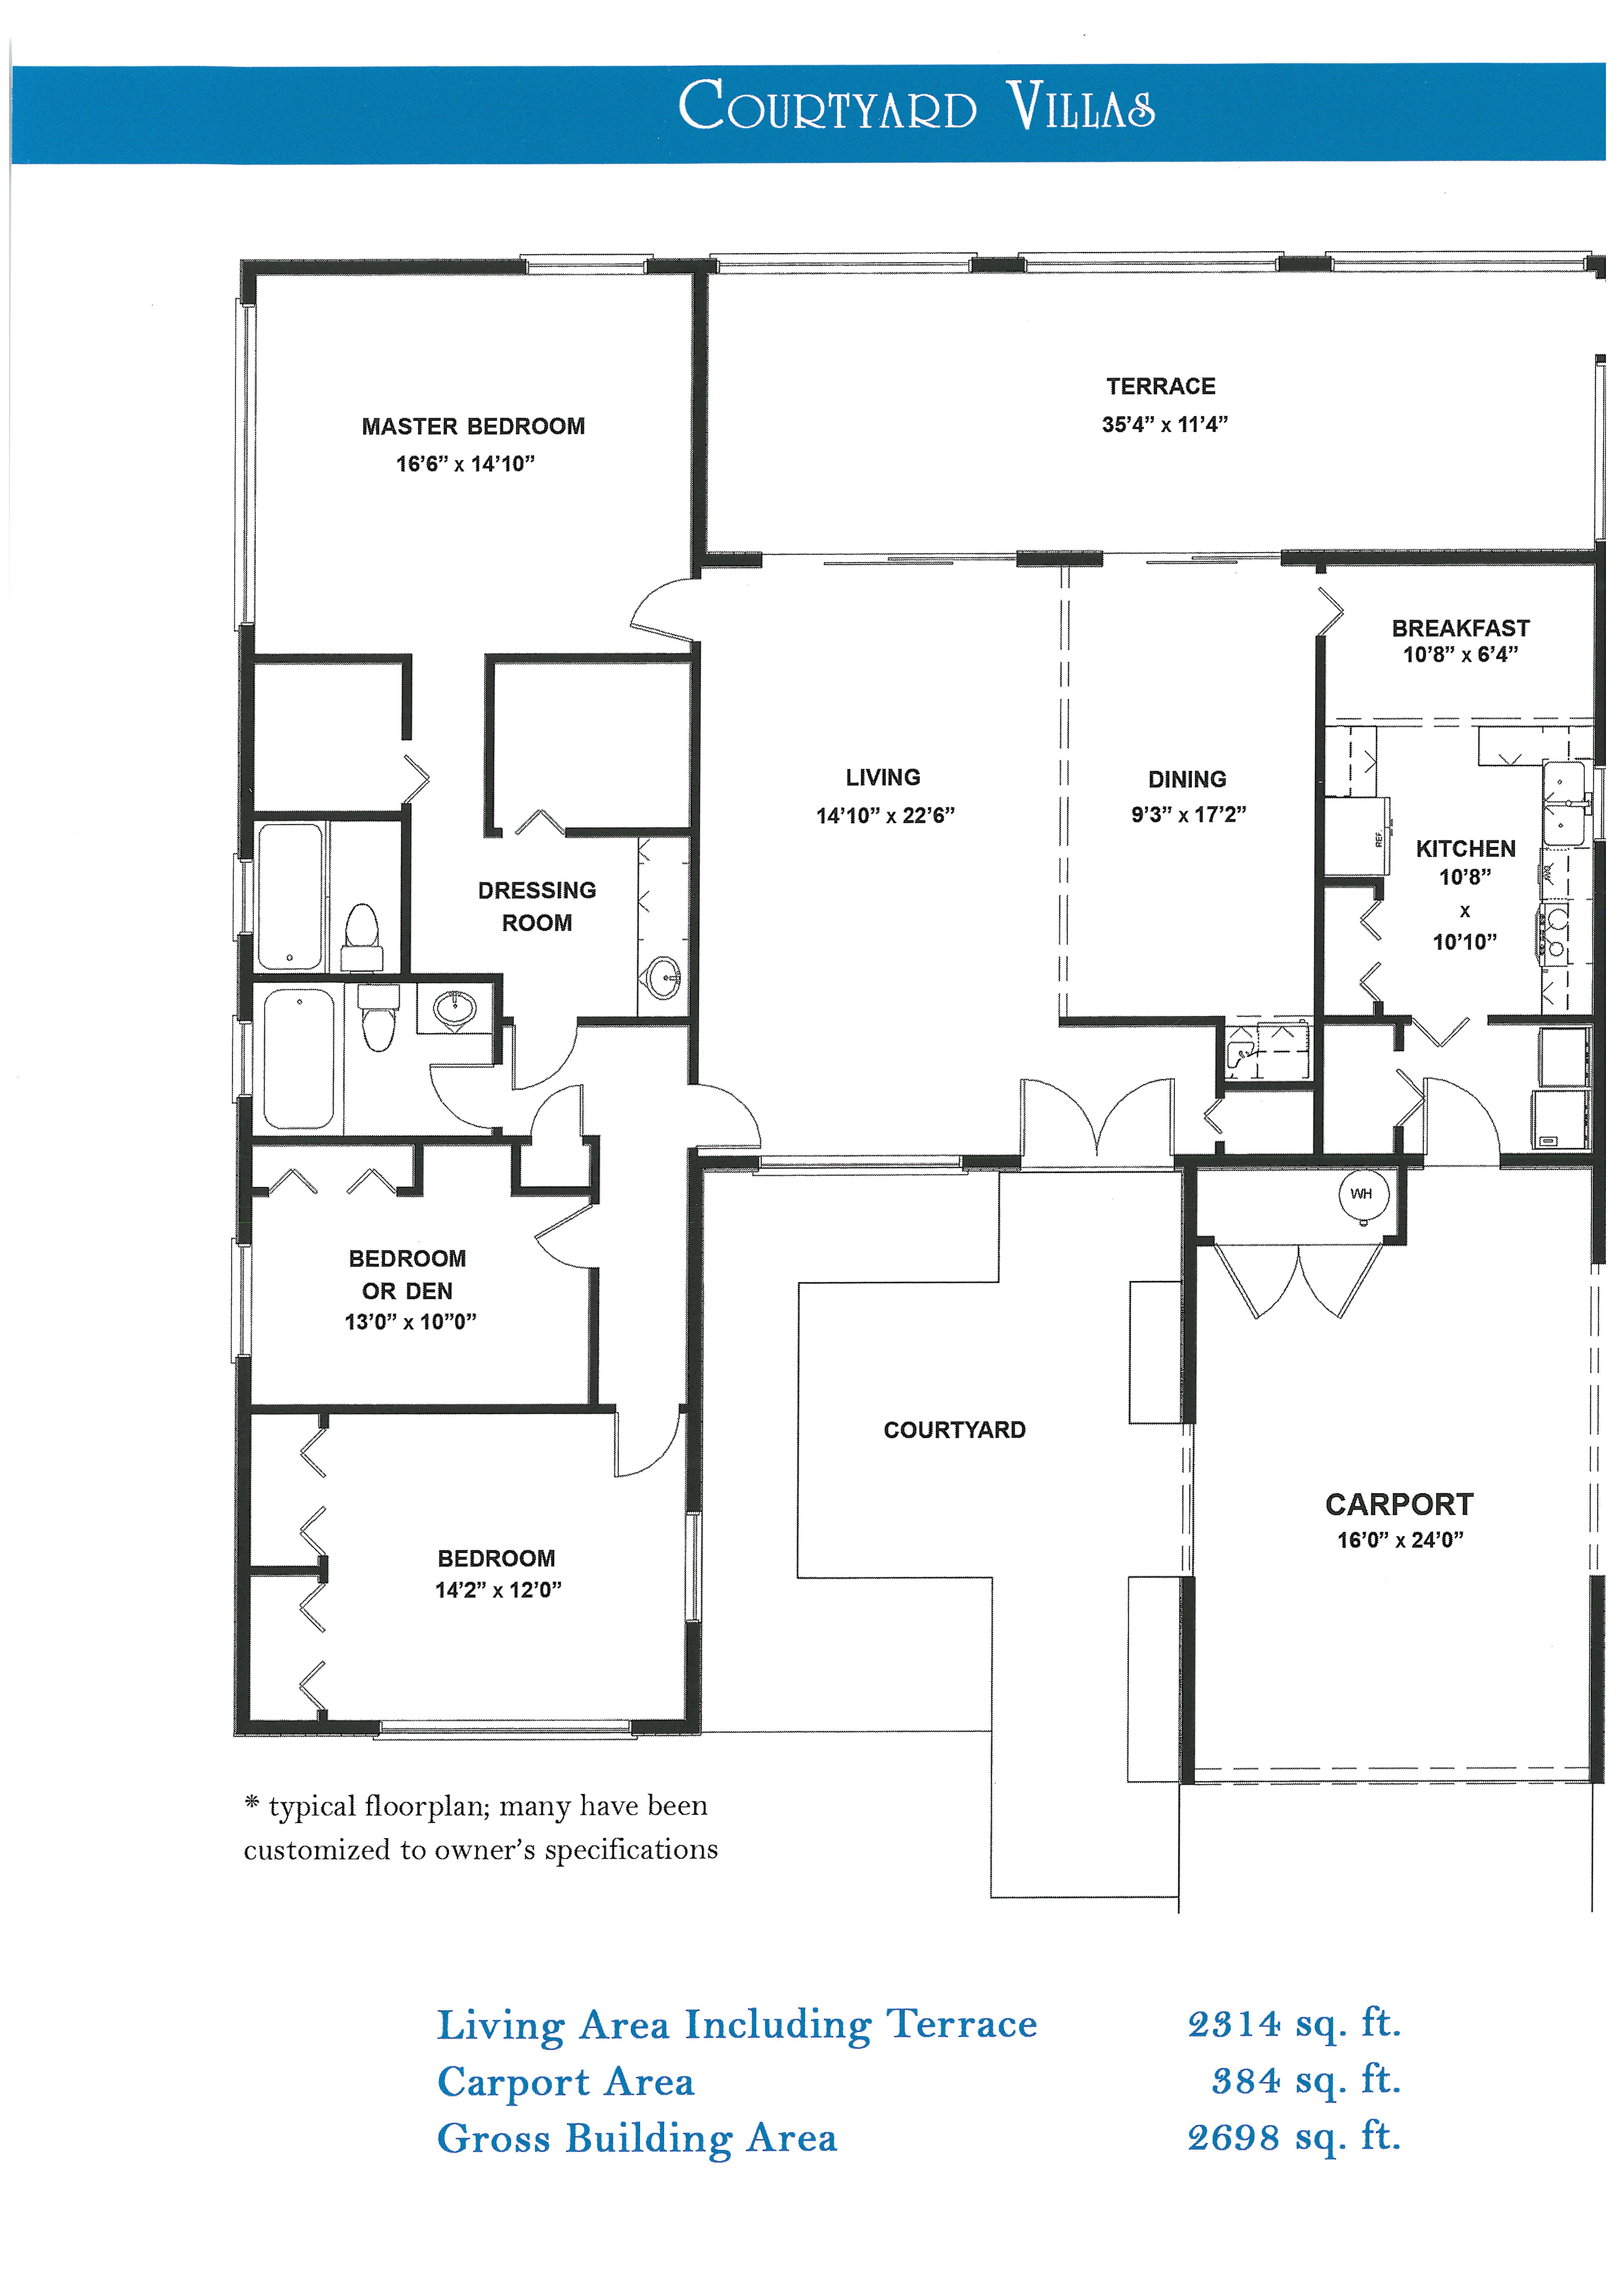room: (691, 553, 1107, 1175), (234, 258, 708, 664), (227, 1400, 710, 1736), (236, 1133, 613, 1414), (1311, 713, 1610, 1026), (399, 803, 698, 1026), (234, 966, 503, 1142)
